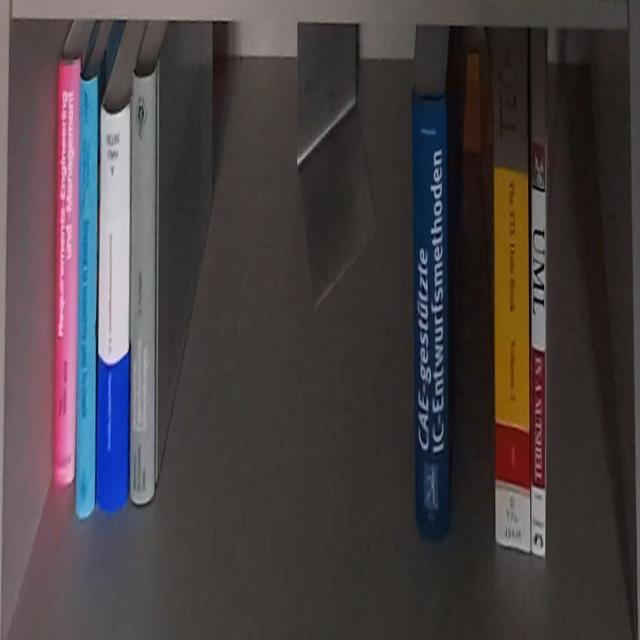Book Spine: (410, 83, 449, 544), (492, 167, 532, 561), (96, 102, 130, 512), (130, 70, 157, 506), (55, 56, 81, 488), (77, 74, 98, 526), (528, 131, 548, 561)
